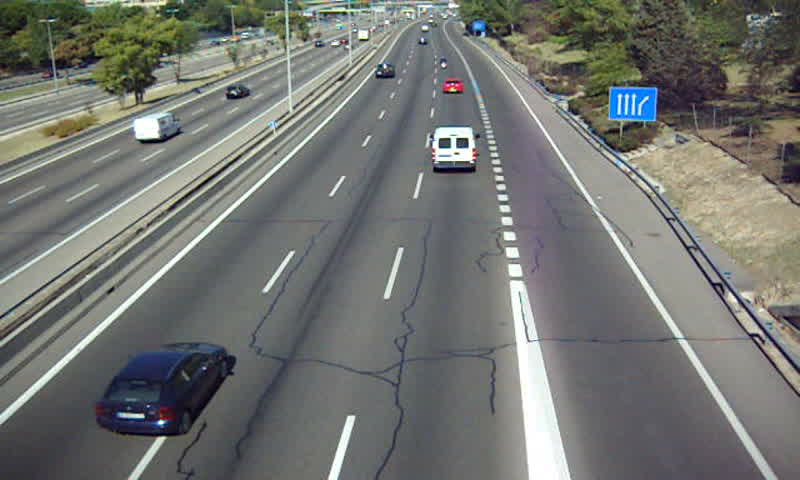car: (96, 341, 229, 435), (443, 78, 465, 96), (375, 62, 396, 80)
motorcycle: (437, 57, 450, 69)
van: (432, 126, 476, 171)
